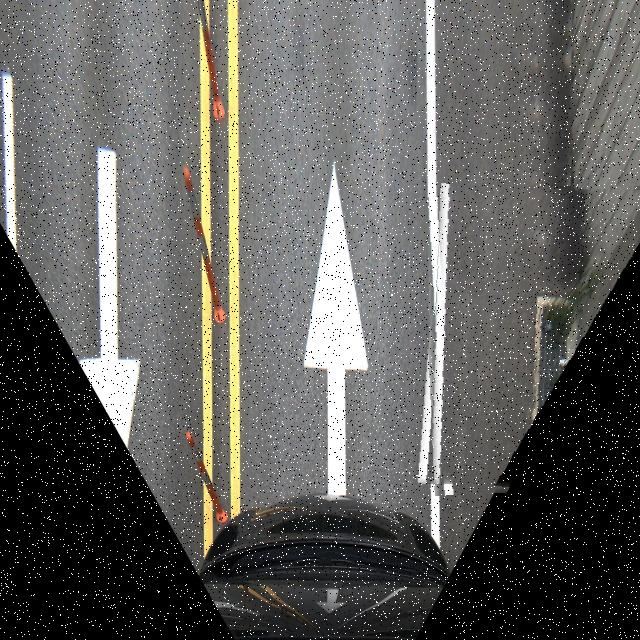forward: (421, 186, 640, 496)
